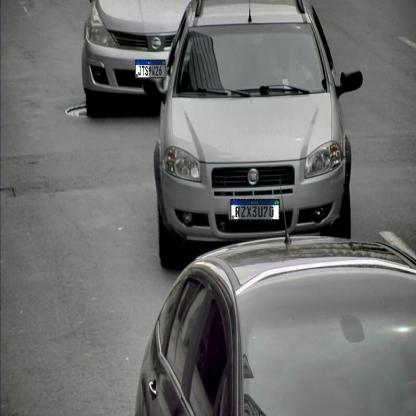PlacaM: (230, 199, 280, 220), (136, 60, 166, 78)
